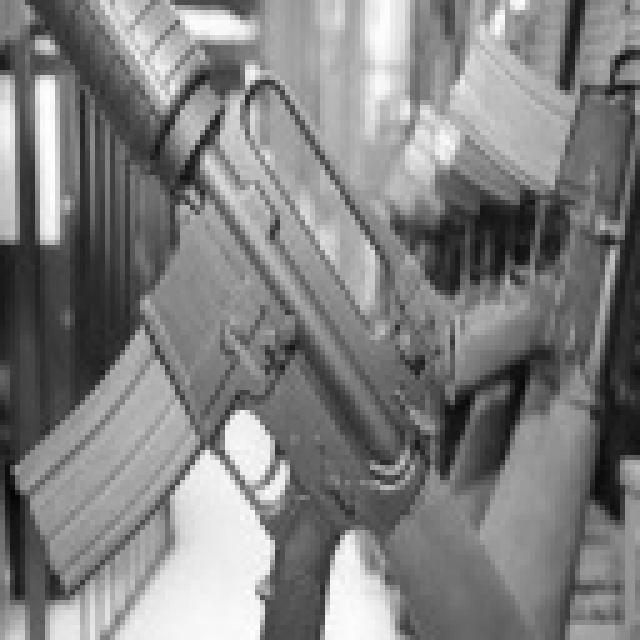Rifle: (0, 0, 540, 640), (401, 41, 640, 640)
